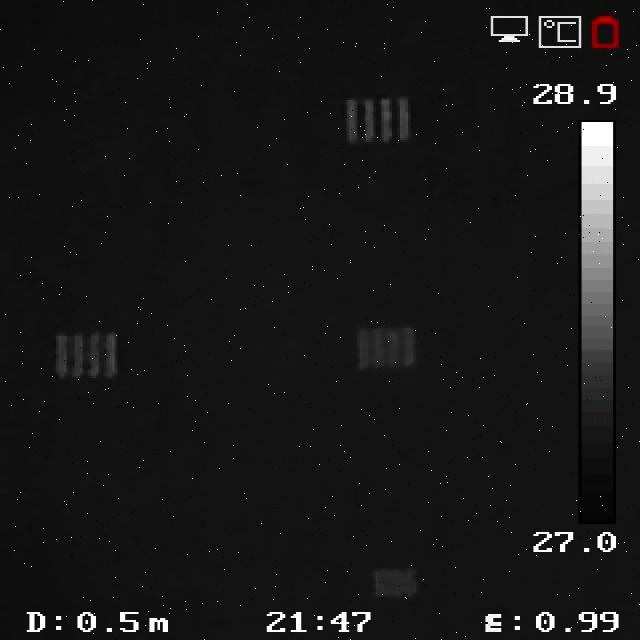Distinguishable 4-bar target: (340, 94, 415, 147), (53, 330, 119, 379)
Indistinguishable 4-bar target: (380, 566, 419, 595)
threshold 4-bar target: (357, 326, 419, 368)
